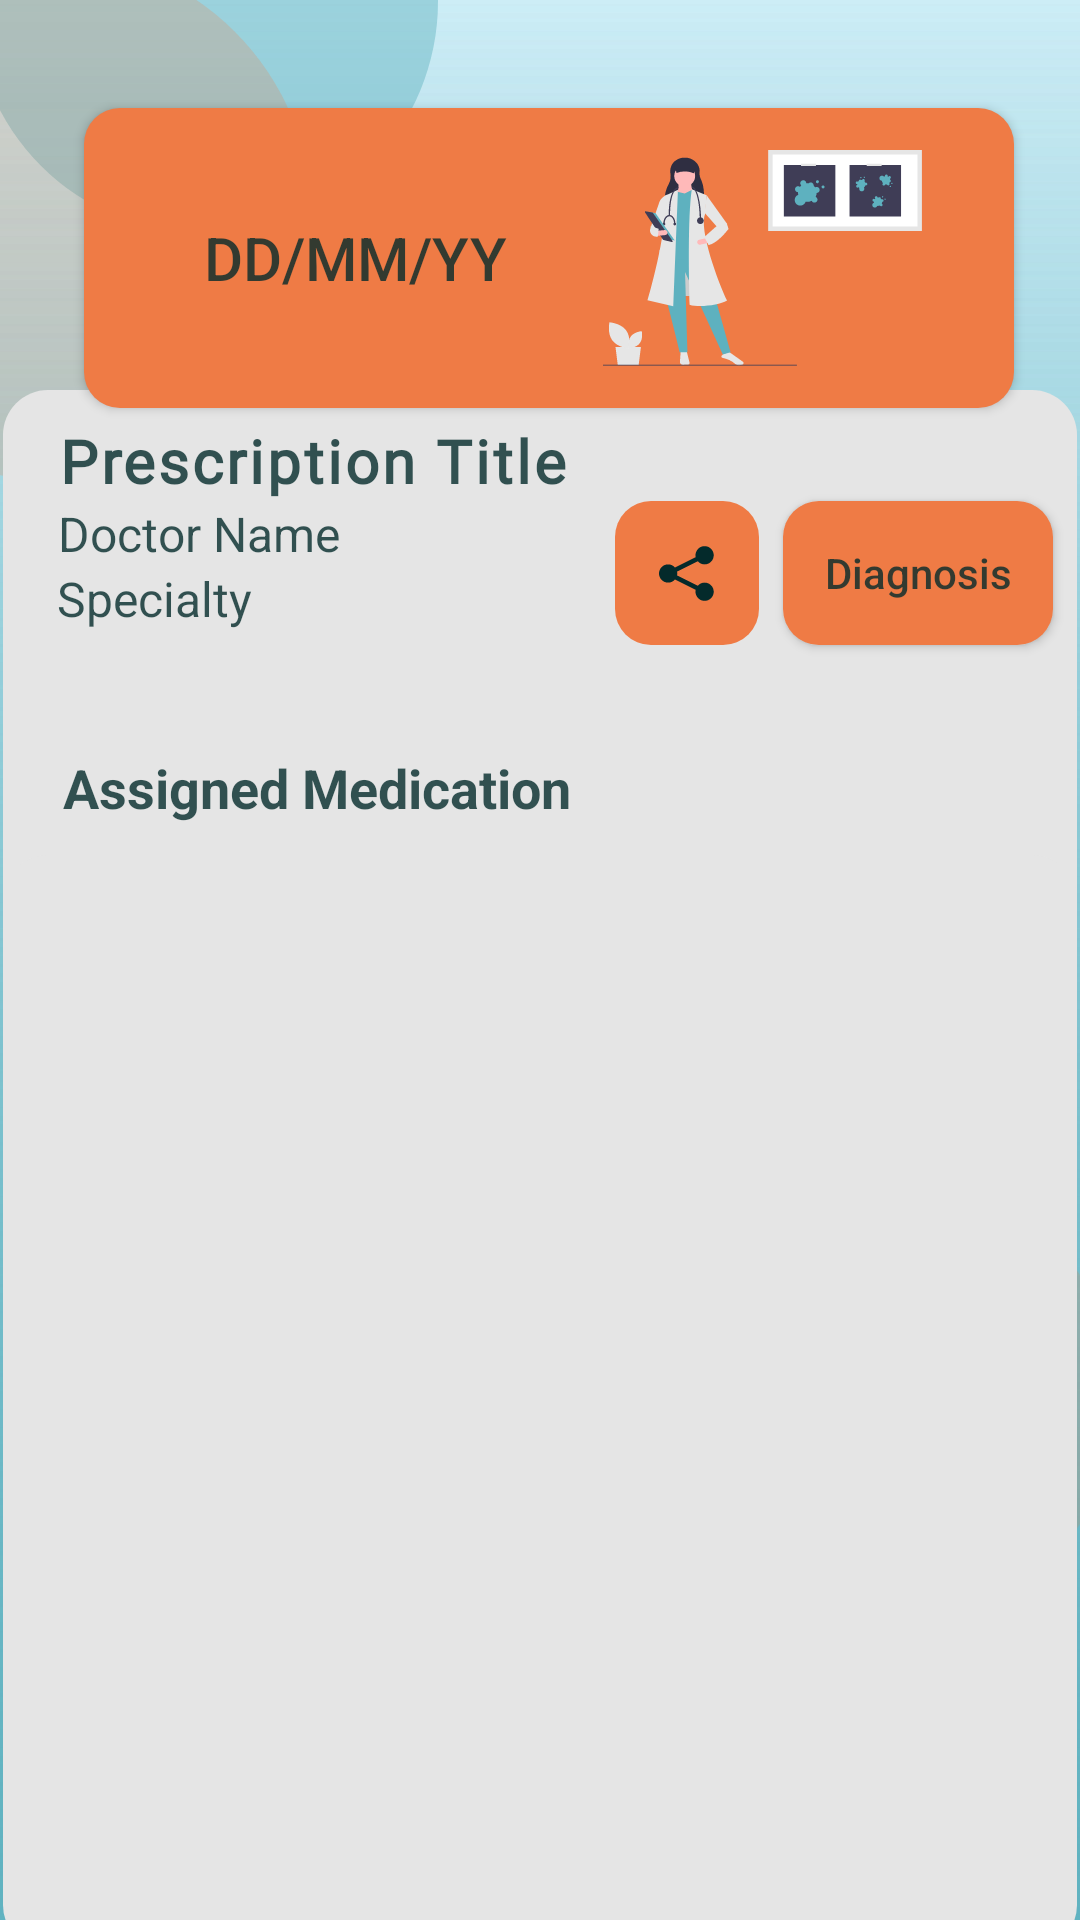

Screen size 1080px x 1920px. Icon name, then its box in pixels as (x1, y1, x2, y2):
share: (615, 501, 759, 645)
